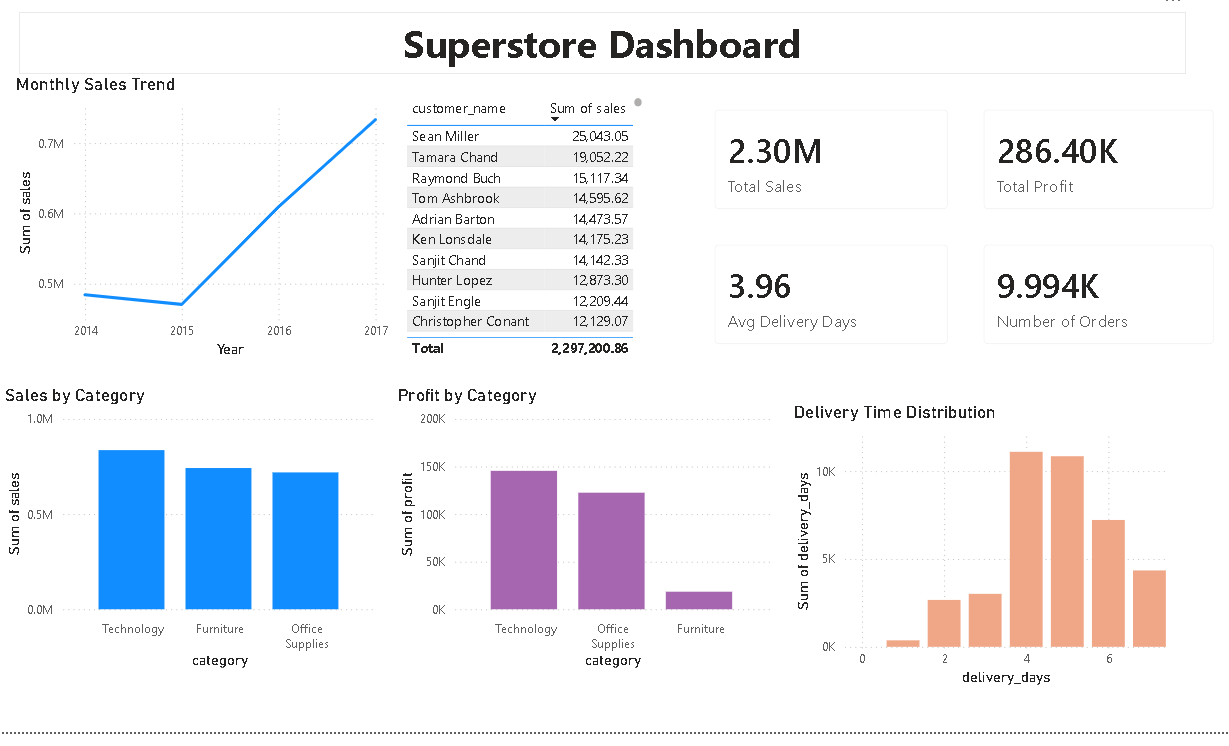

Layout of this report page (visuals, bound fields, positions):
{"tool":"powerbi","page":{"name":"Page 1","canvas":[1280,720],"ordinal":0},"visuals":[{"type":"lineChart","title":"Monthly Sales Trend","fields":{"Category":["Superstore_clean_data.order_date.Variation.Date Hierarchy.Year","Superstore_clean_data.order_date.Variation.Date Hierarchy.Month"],"Y":["Sum(Superstore_clean_data.sales)"]},"box":[29.2,79.8,371.6,280.1],"z":0},{"type":"clusteredColumnChart","title":"Sales by Category","fields":{"Category":["Superstore_clean_data.category"],"Y":["Sum(Superstore_clean_data.sales)"]},"box":[18.5,382.2,371.6,280.1],"z":1000},{"type":"clusteredColumnChart","title":"Profit by Category","fields":{"Category":["Superstore_clean_data.category"],"Y":["Sum(Superstore_clean_data.profit)"]},"box":[400.7,382.2,372.5,280.1],"z":2000},{"type":"lineStackedColumnComboChart","title":"Delivery Time Distribution","fields":{"Category":["Superstore_clean_data.delivery_days"],"Y":["Sum(Superstore_clean_data.delivery_days)"]},"box":[785.9,398.8,371.6,280.1],"z":3000},{"type":"tableEx","fields":{"Values":["Superstore_clean_data.customer_name","Sum(Superstore_clean_data.sales)"]},"box":[408.5,97.3,240.2,262.6],"z":4000},{"type":"cardVisual","title":"Total Sales","fields":{"Data":["Sum(Superstore_clean_data.sales)"]},"box":[696.4,97.3,261.6,131.3],"z":5000},{"type":"cardVisual","title":"Total Sales","fields":{"Data":["Sum(Superstore_clean_data.profit)"]},"box":[958.1,97.3,258.7,131.3],"z":6000},{"type":"cardVisual","title":"Total Sales","fields":{"Data":["Avg(Superstore_clean_data.delivery_days)"]},"box":[696.4,228.6,261.6,131.3],"z":7000},{"type":"cardVisual","title":"Total Sales","fields":{"Data":["CountNonNull(Superstore_clean_data.order_id)"]},"box":[958.1,228.6,258.7,131.3],"z":8000},{"type":"textbox","box":[37,19.5,1135.1,60.3],"z":8001}]}

Visuals, with their boxes on the page's 1280x720 design canvas (x1, y1, x2, y2). These are canvas units, not pixel positions in the 1229x746 screenshot, which may show the page scaled, cropped or inside an application window:
"Monthly Sales Trend" lineChart: left=29, top=80, right=401, bottom=360
"Sales by Category" clusteredColumnChart: left=18, top=382, right=390, bottom=662
"Profit by Category" clusteredColumnChart: left=401, top=382, right=773, bottom=662
"Delivery Time Distribution" lineStackedColumnComboChart: left=786, top=399, right=1158, bottom=679
tableEx - Superstore_clean_data.customer_name x Sum(Superstore_clean_data.sales): left=408, top=97, right=649, bottom=360
"Total Sales" cardVisual: left=696, top=97, right=958, bottom=229
"Total Sales" cardVisual: left=958, top=97, right=1217, bottom=229
"Total Sales" cardVisual: left=696, top=229, right=958, bottom=360
"Total Sales" cardVisual: left=958, top=229, right=1217, bottom=360
textbox: left=37, top=20, right=1172, bottom=80
